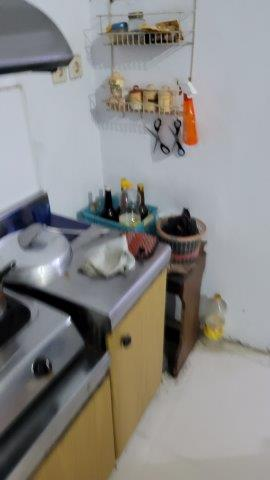botolkaca: (93, 177, 156, 225)
